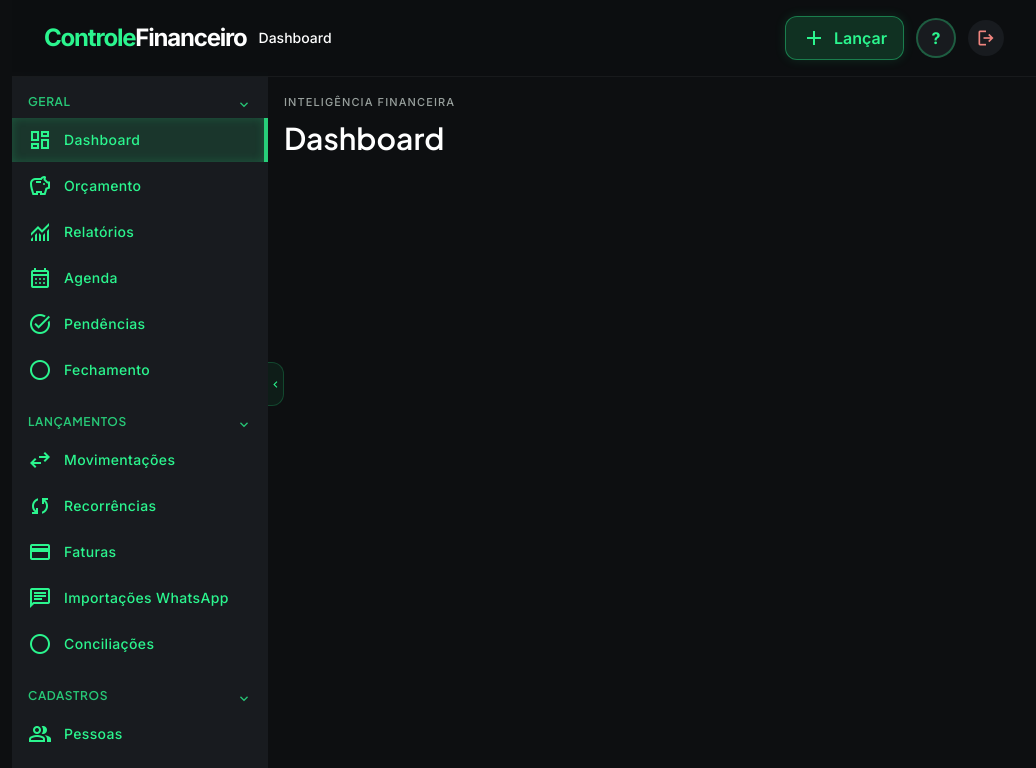
Test: NeonLedgerLayout › toggles sidebar back to expanded when clicked again
Click the button named "Retrair menu" at (276, 384), box [268, 362, 284, 406]
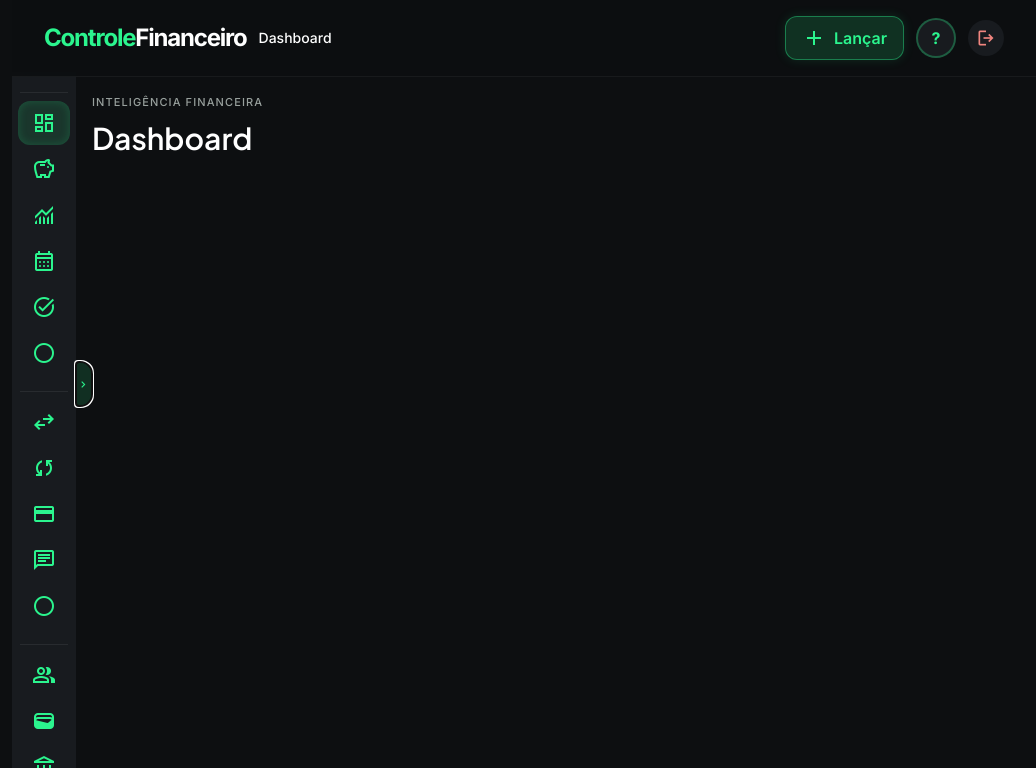
Expected: the button named "Expandir menu" is shown
Click the button named "Expandir menu" at (84, 384), box [76, 362, 92, 406]
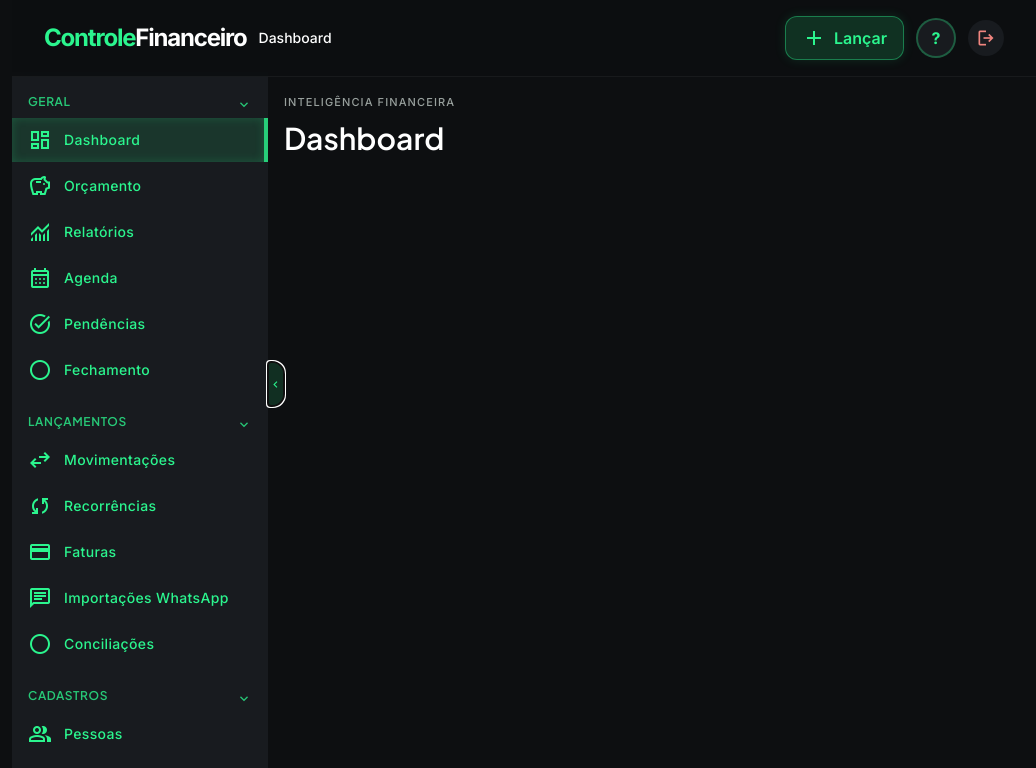
Expected: the button named "Retrair menu" is shown, [268, 362, 284, 406]
